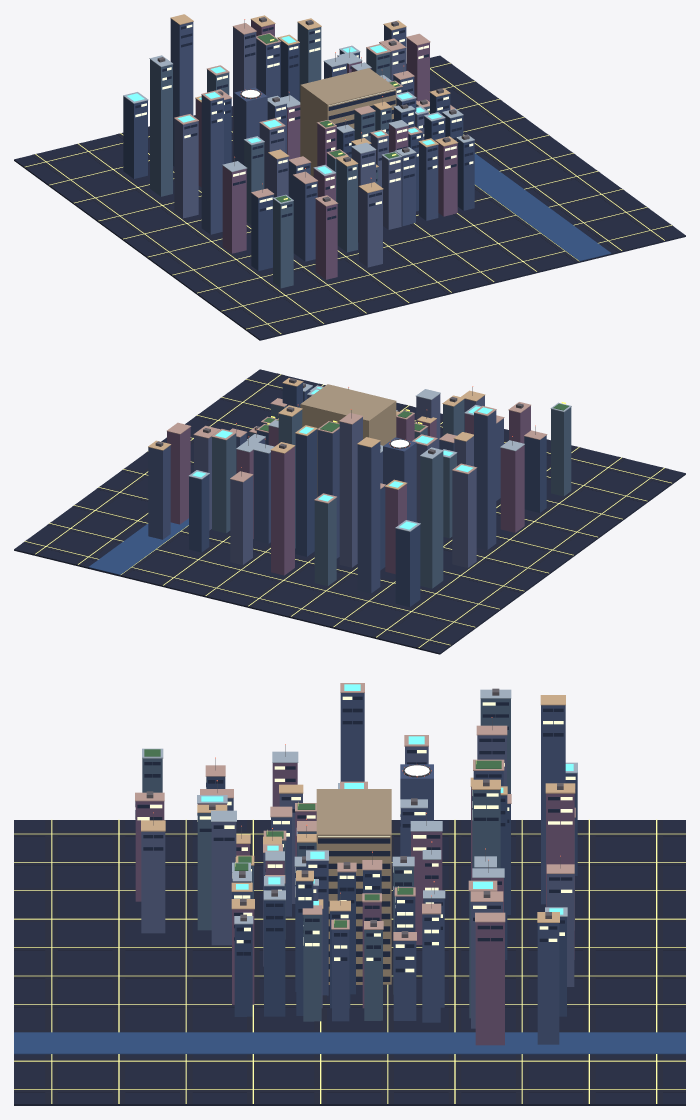
Rendered from umgebung.glb.
3 renders of one model, top to bottom at view 1: azimuth 30°, elevation 25°; view 2: azimuth 150°, elevation 25°; view 3: azimuth 270°, elevation 25°, orthographic. The views are drawn at different scales.
Visible parts, largest first — view 1: umgebung; view 2: umgebung; view 3: umgebung.
Part boxes in pixels (box(x1,y1,x2,y2)): umgebung: box(14, 14, 685, 340); umgebung: box(14, 369, 685, 654); umgebung: box(14, 683, 685, 1105).
Bounding box in the file's own units: 160 × 55.52 × 160.
